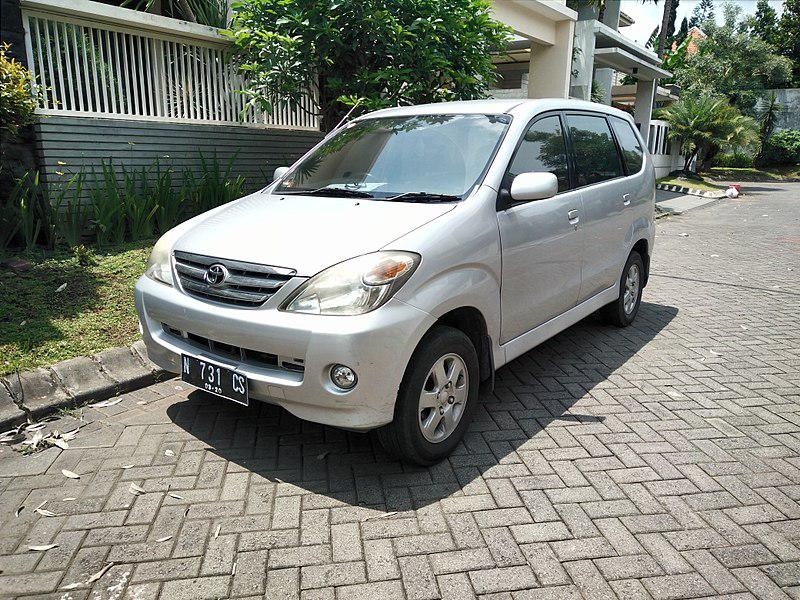plate: (179, 348, 250, 411)
